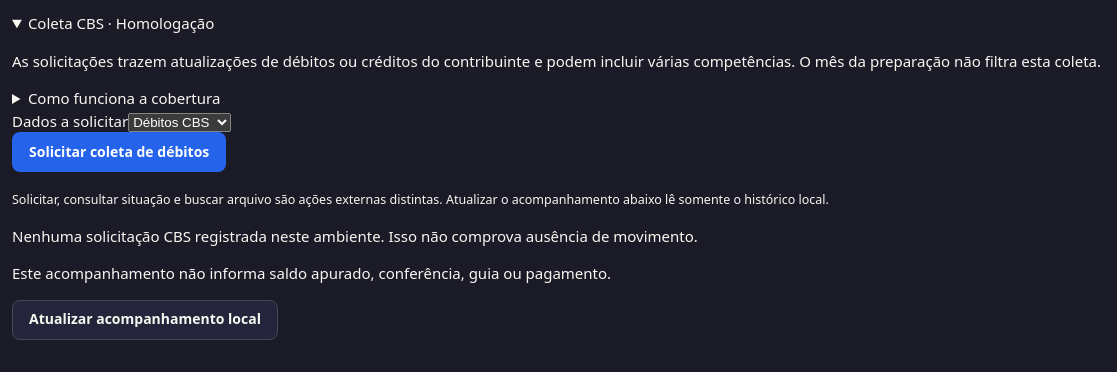
Test: erro ao recarregar preserva última leitura mas bloqueia ações externas
Expected: the text "Nenhuma solicitação CBS registrada" is shown, [12,226,698,246]
What coordinates should you click on to do the following:
click the button "Atualizar acompanhamento local"
I would click on:
 (145, 320)
Its box is [12,300,278,340].
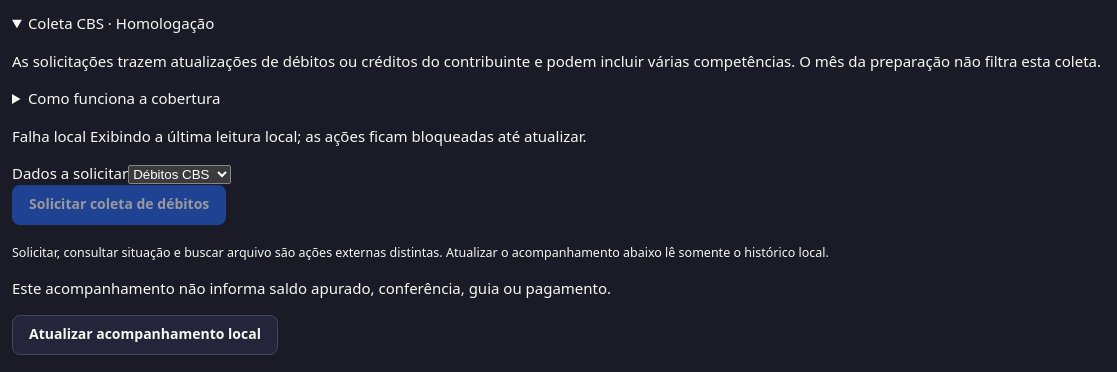
Expected: the button "Solicitar coleta de débitos" is disabled, [12,184,226,224]
